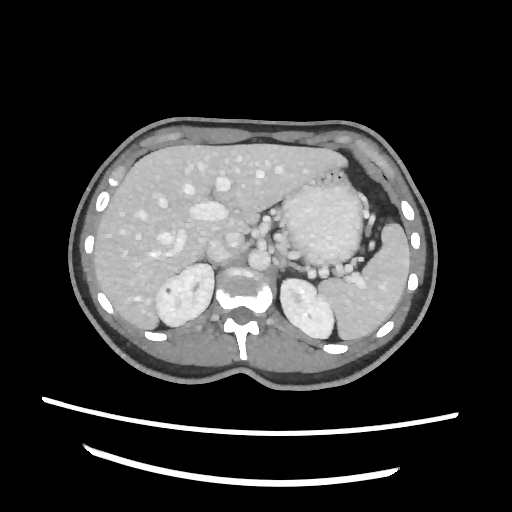Lesion: (161, 287, 178, 296)
